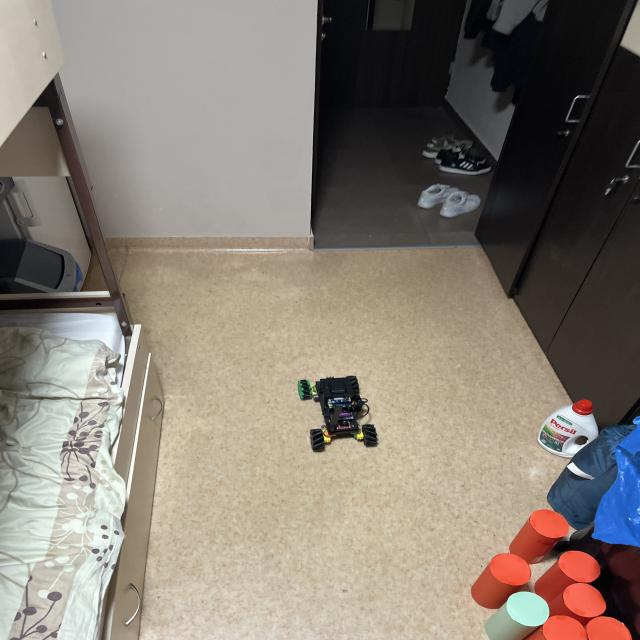robot: (298, 376, 377, 451)
